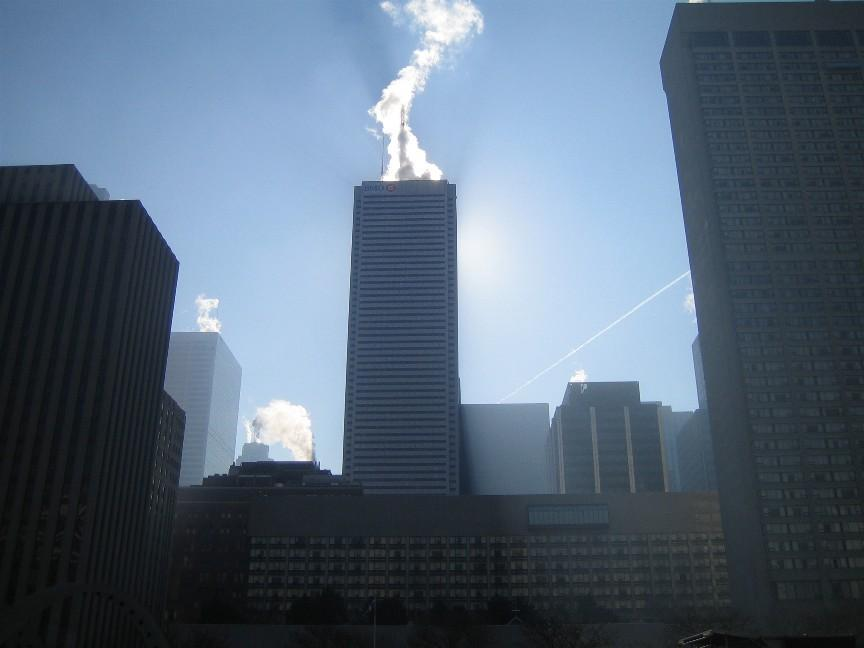building: (657, 1, 864, 646), (2, 156, 191, 648), (254, 492, 723, 648), (342, 179, 466, 496), (547, 381, 671, 492), (169, 332, 246, 494), (184, 464, 250, 622), (677, 331, 719, 491)
